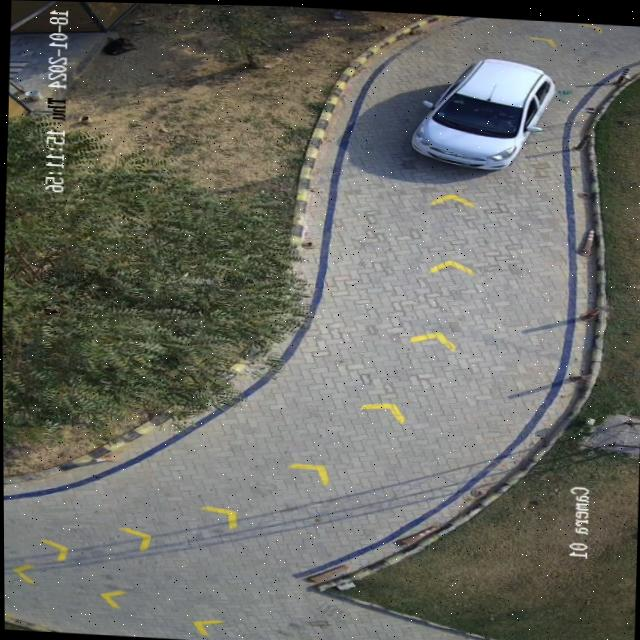car: (408, 53, 558, 168)
